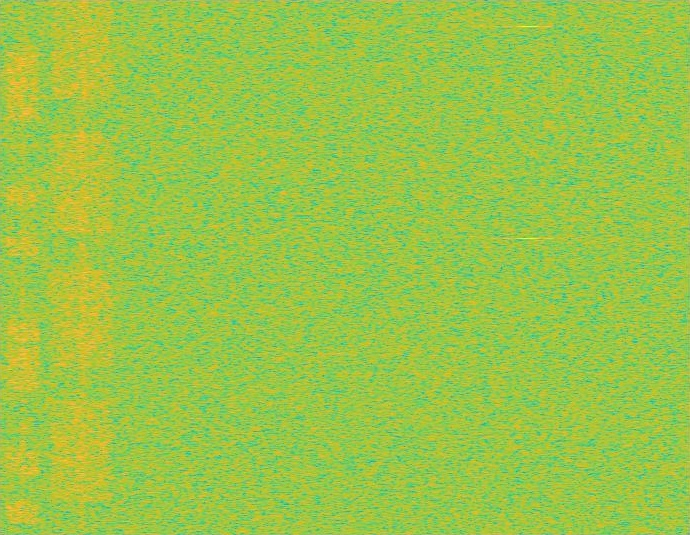5G: (48, 0, 117, 534)
DSSS: (77, 0, 87, 534), (21, 0, 25, 534)
LTE: (6, 0, 40, 534)
Radar: (521, 0, 535, 534)
